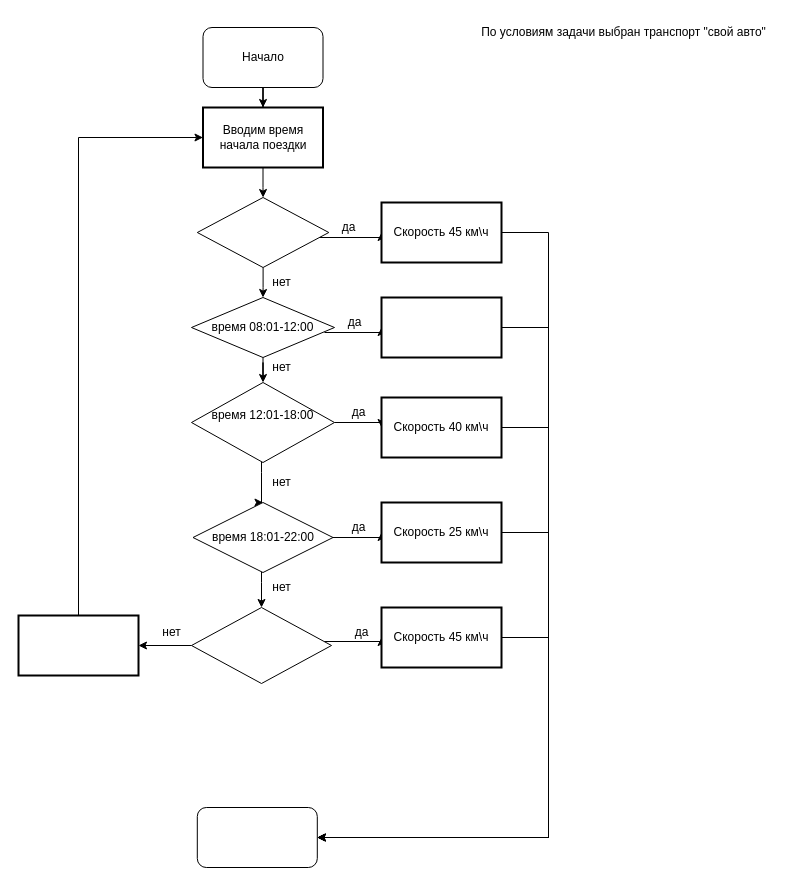
Image size: 795x885. Some labels were removed from this diagram. The shapes that lost their labels are listed below. From the top down, each one's box as (x1, y1, x2, y2) in pixels, then its label:
(196, 196, 329, 268): время 00:01-08:00
(380, 296, 502, 358): Скорость 30 км\ч
(17, 614, 139, 676): Сообщение об ошибке
(190, 606, 332, 684): время 22:01-00:00
(196, 806, 317, 868): Конец
